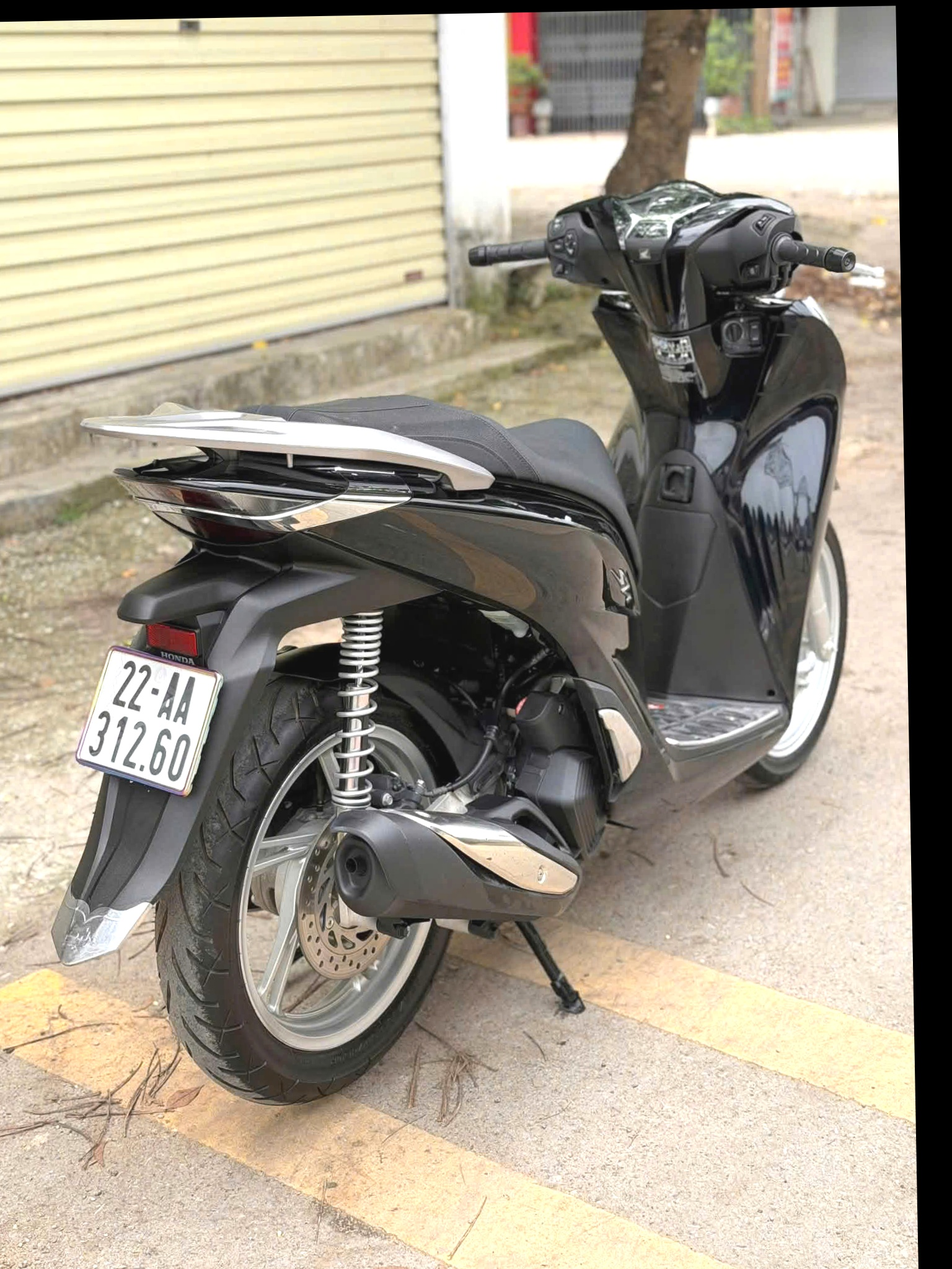Bien-so: (71, 646, 223, 790)
